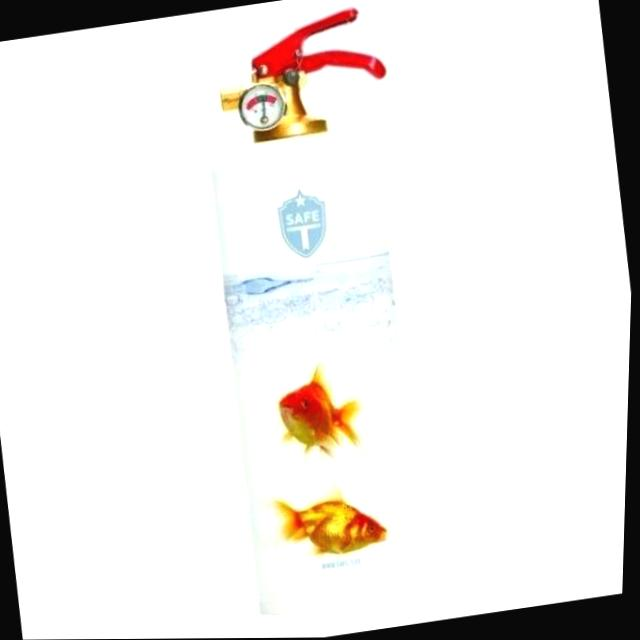FireExtinguisher: (169, 0, 467, 632)
